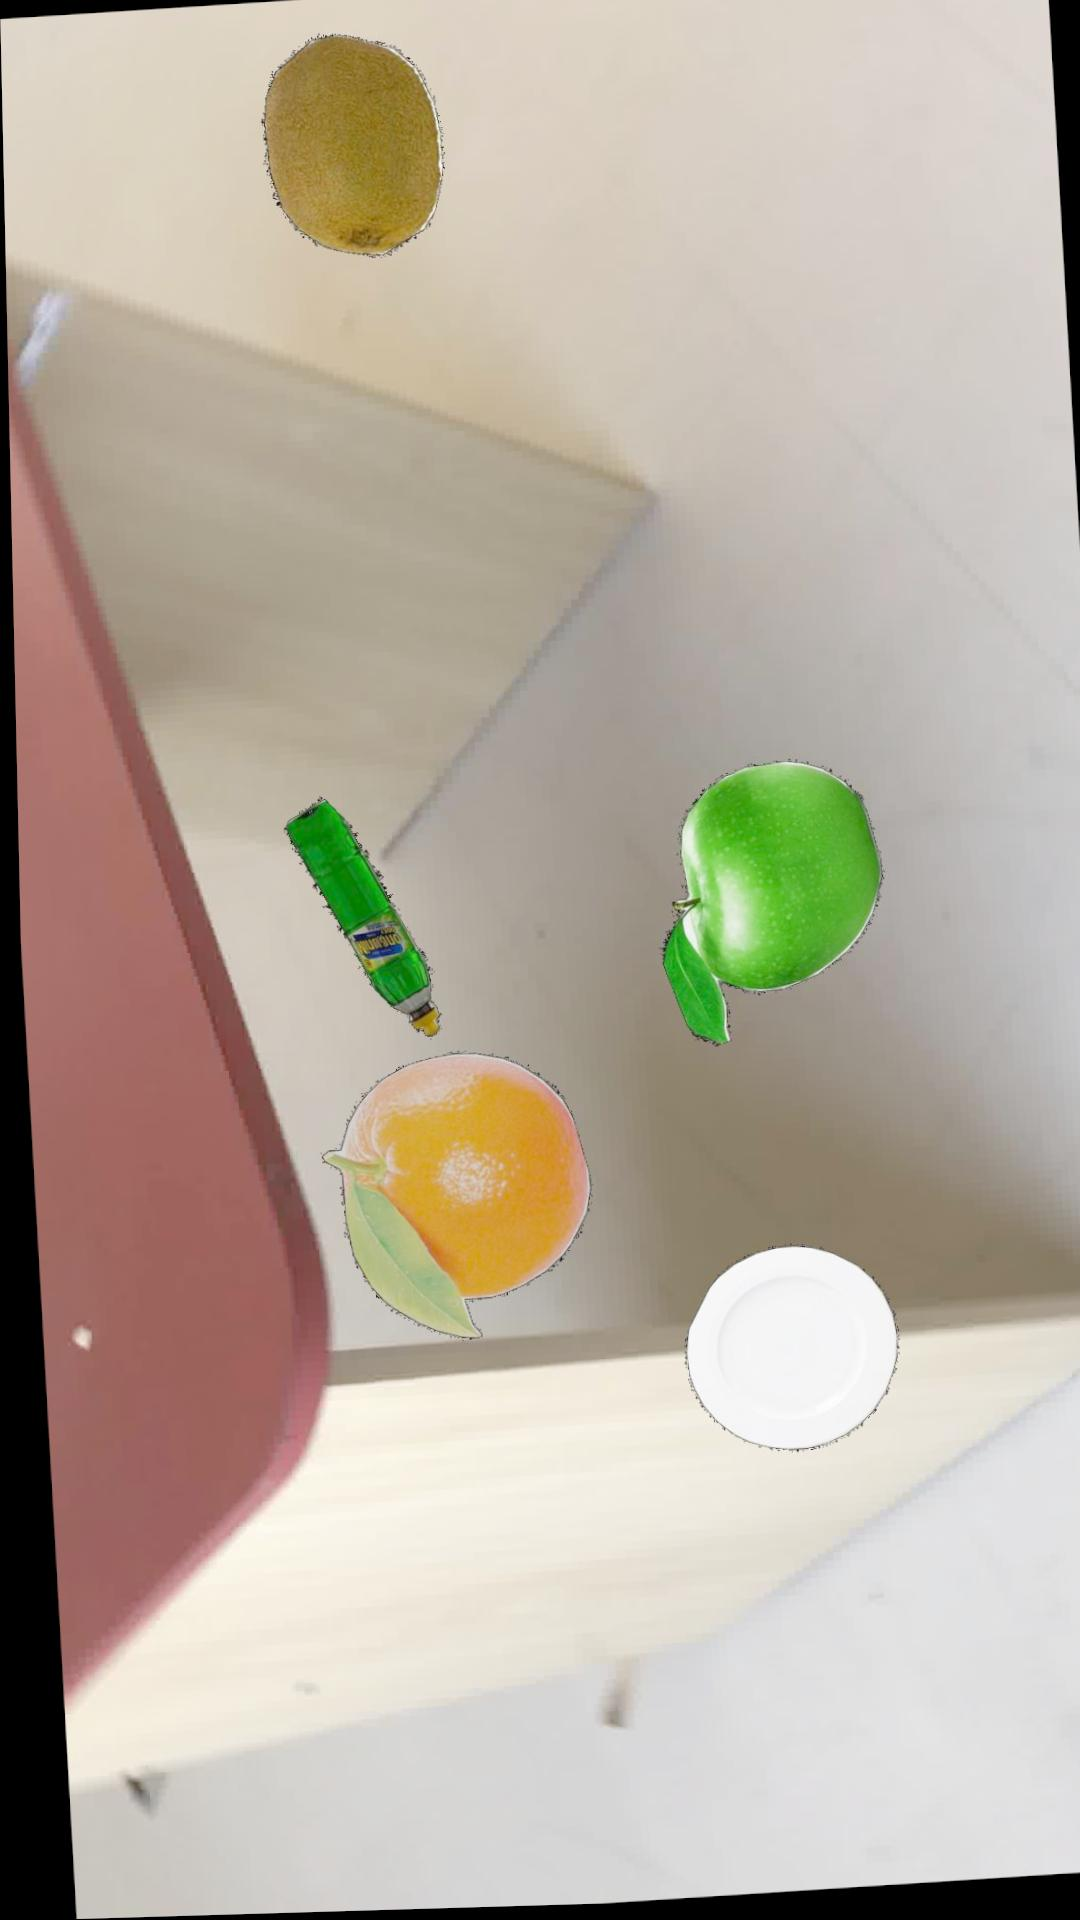cleaner: (281, 798, 438, 1036)
green apple: (658, 764, 880, 1048)
kiwi: (261, 33, 444, 256)
orange: (316, 1052, 585, 1340)
plate: (678, 1247, 893, 1455)
